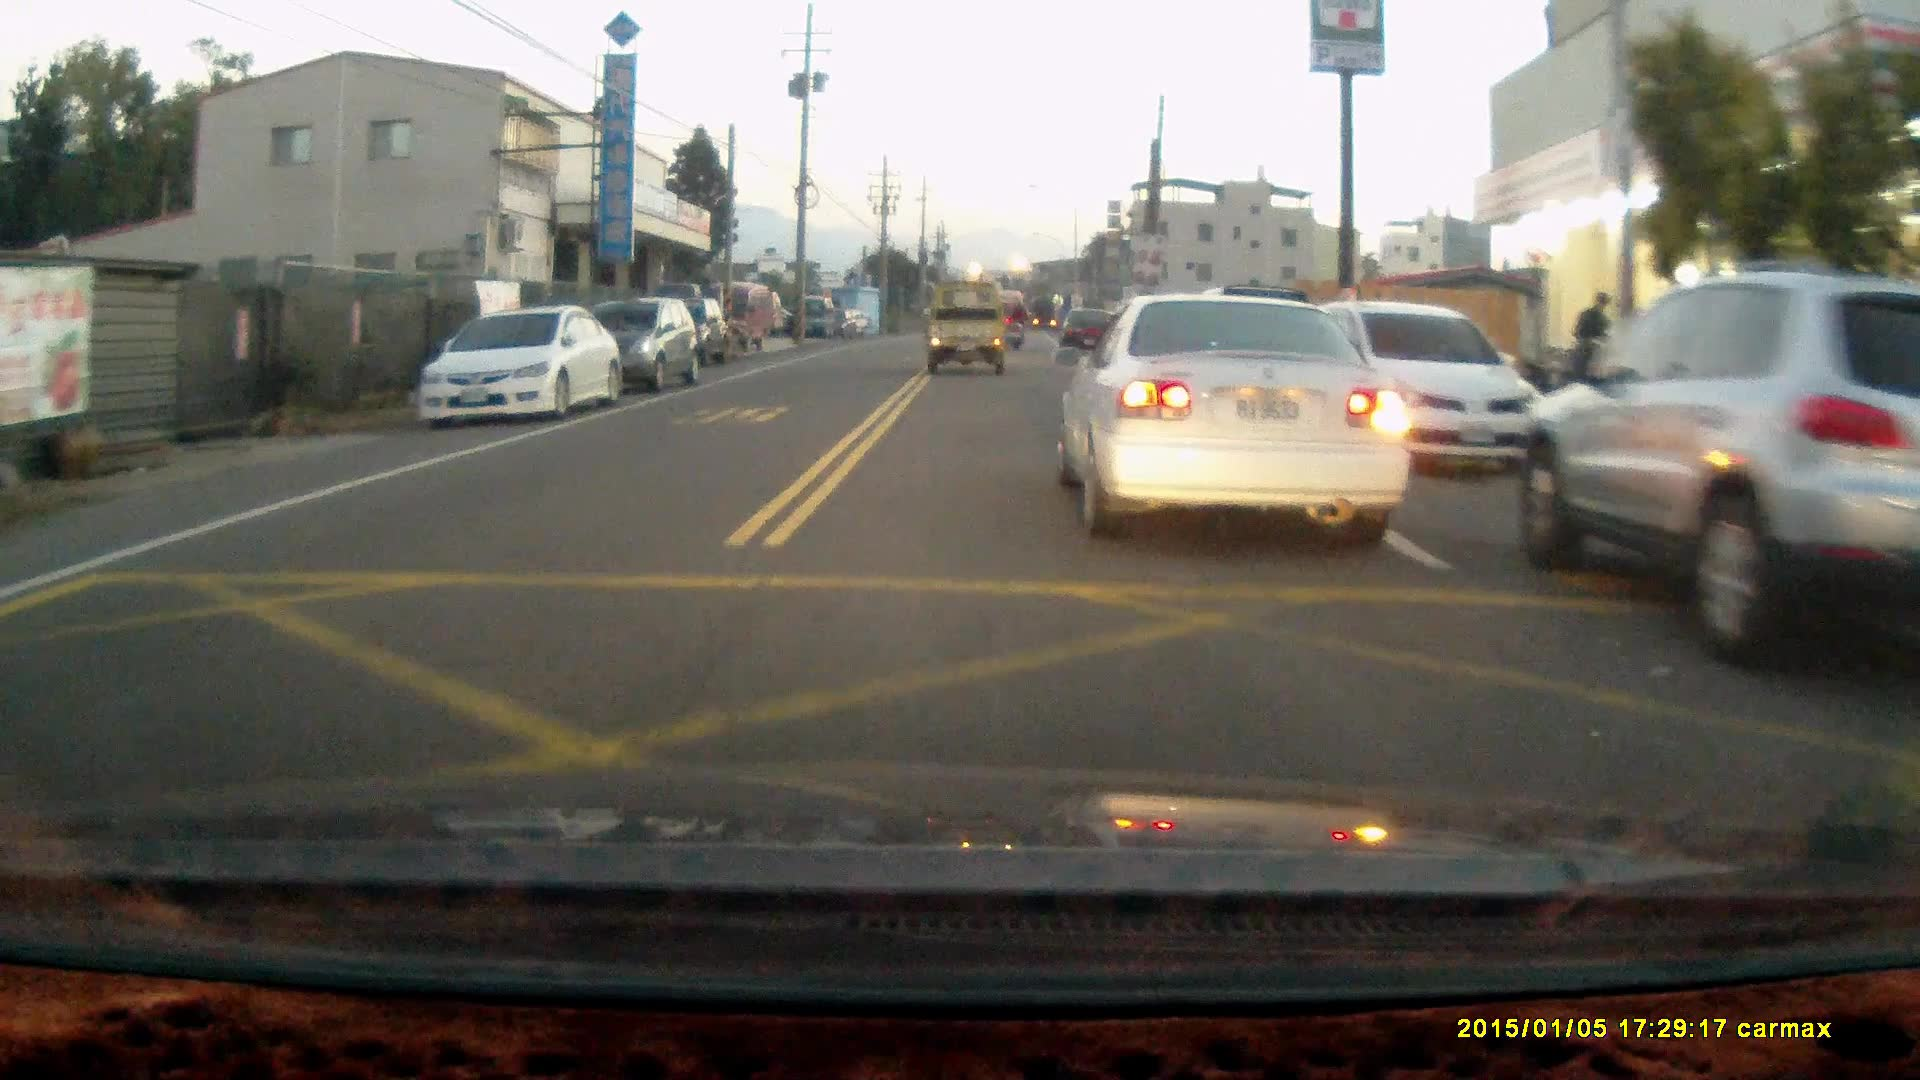pedestrian: (1569, 290, 1612, 396)
rider: (1003, 302, 1029, 350)
vehicle: (1519, 265, 1920, 703), (1066, 279, 1409, 528), (1285, 288, 1543, 472), (419, 292, 624, 422), (571, 291, 705, 391), (630, 276, 735, 362), (928, 272, 1015, 369), (716, 279, 778, 350), (1057, 306, 1121, 358)
